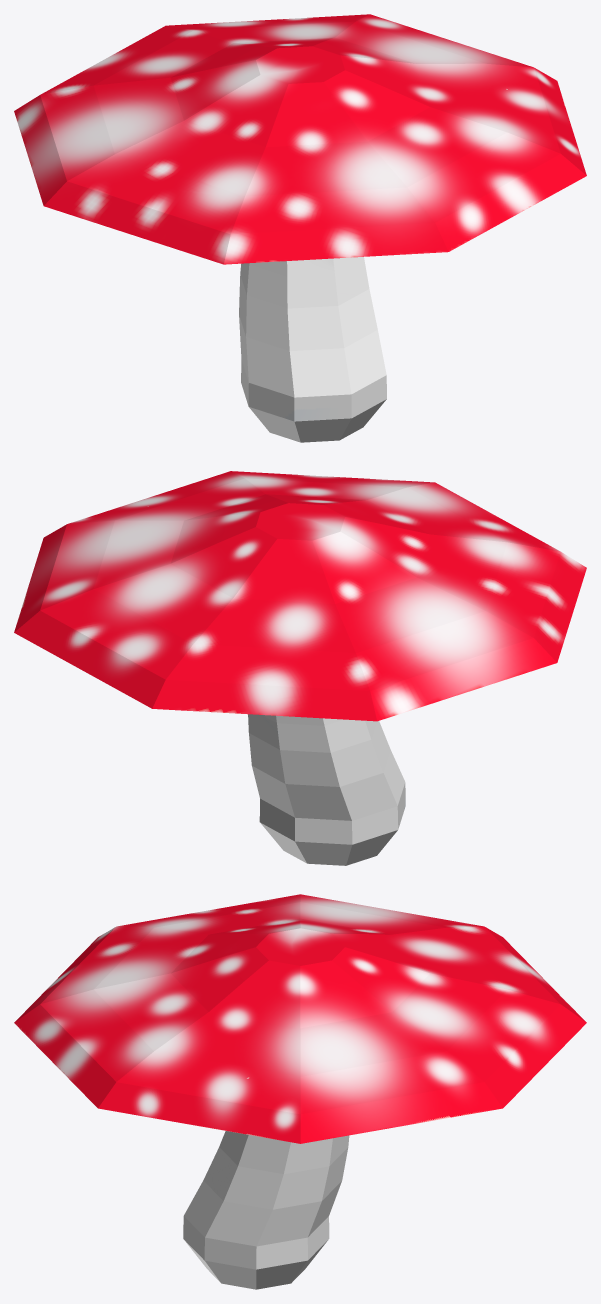
The model's file is mushroom 1.fbx.
3 renders of one model, top to bottom at view 1: azimuth 30°, elevation 25°; view 2: azimuth 150°, elevation 25°; view 3: azimuth 270°, elevation 25°, orthographic. The views are drawn at different scales.
Parts seen in each view (by area): view 1: Cylinder.002; view 2: Cylinder.002; view 3: Cylinder.002.
Part boxes in pixels (x1,y1,x2,y2): Cylinder.002: [14, 14, 586, 442]; Cylinder.002: [14, 471, 586, 865]; Cylinder.002: [14, 894, 586, 1289].
Bounding box in the file's own units: 11.77 × 7.39 × 11.77.
1 material, 1 textured.
